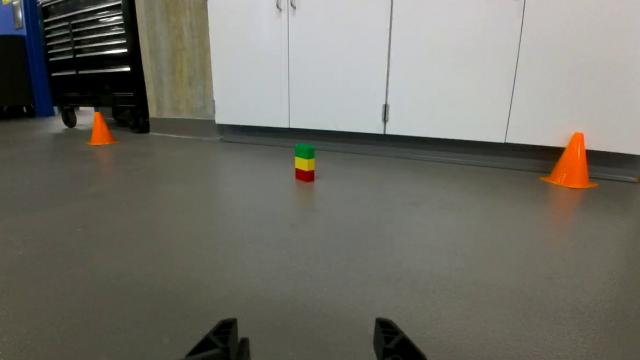lego: (290, 140, 318, 185)
